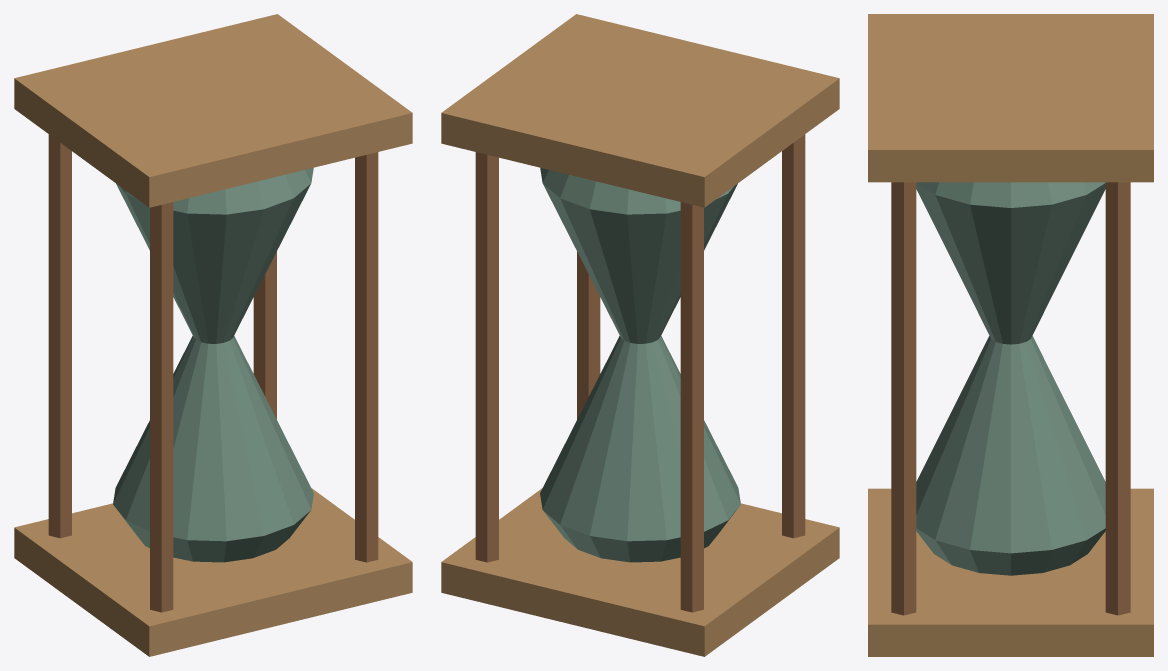
Rendered from hourglass.glb.
3 renders of one model, left to right at view 1: azimuth 30°, elevation 25°; view 2: azimuth 150°, elevation 25°; view 3: azimuth 270°, elevation 25°, orthographic. The views are drawn at different scales.
Visible parts, largest first — view 1: Hourglass • braced brass frame.001; view 2: Hourglass • braced brass frame.001; view 3: Hourglass • braced brass frame.001.
Part boxes in pixels (x1=…): Hourglass • braced brass frame.001: x1=14, y1=14, x2=412, y2=656; Hourglass • braced brass frame.001: x1=441, y1=14, x2=839, y2=656; Hourglass • braced brass frame.001: x1=868, y1=14, x2=1153, y2=656.
Size of the model in its own units: 0.27 by 0.47 by 0.24.
